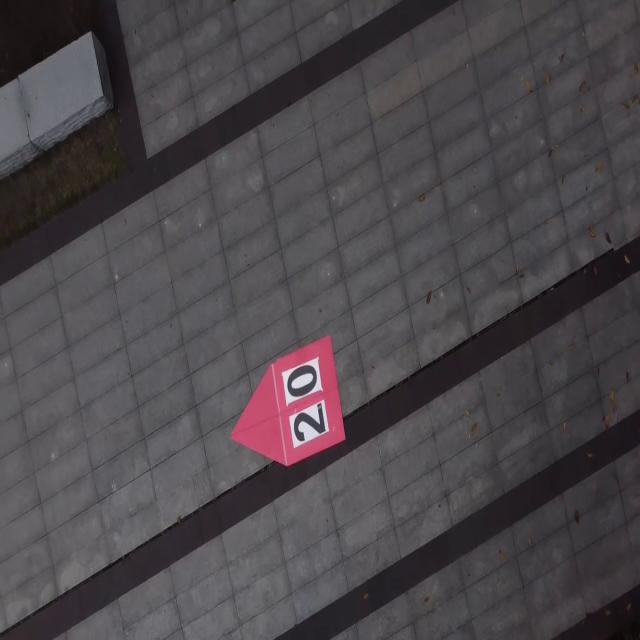-sign-: (230, 334, 346, 468)
